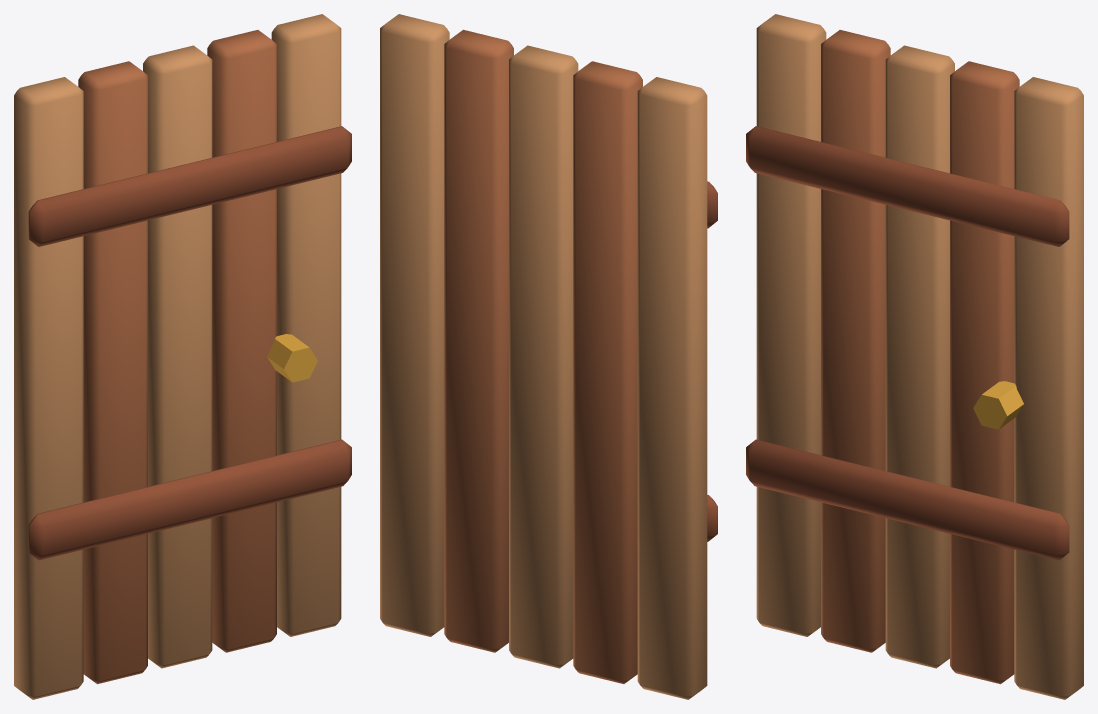
File: Door_Plank.glb
3 views of the same model, side by side, from view 1: azimuth 30°, elevation 25°; view 2: azimuth 150°, elevation 25°; view 3: azimuth 330°, elevation 25° (orthographic).
Parts seen in each view (by area): view 1: Door_Plank; view 2: Door_Plank; view 3: Door_Plank.
Boxes of the visible parts, x1,y1,x2,y2 form: Door_Plank: (14,14,351,699); Door_Plank: (380,14,717,699); Door_Plank: (746,14,1083,699).
Bounding box in the file's own units: 0.66 × 1.18 × 0.13.
